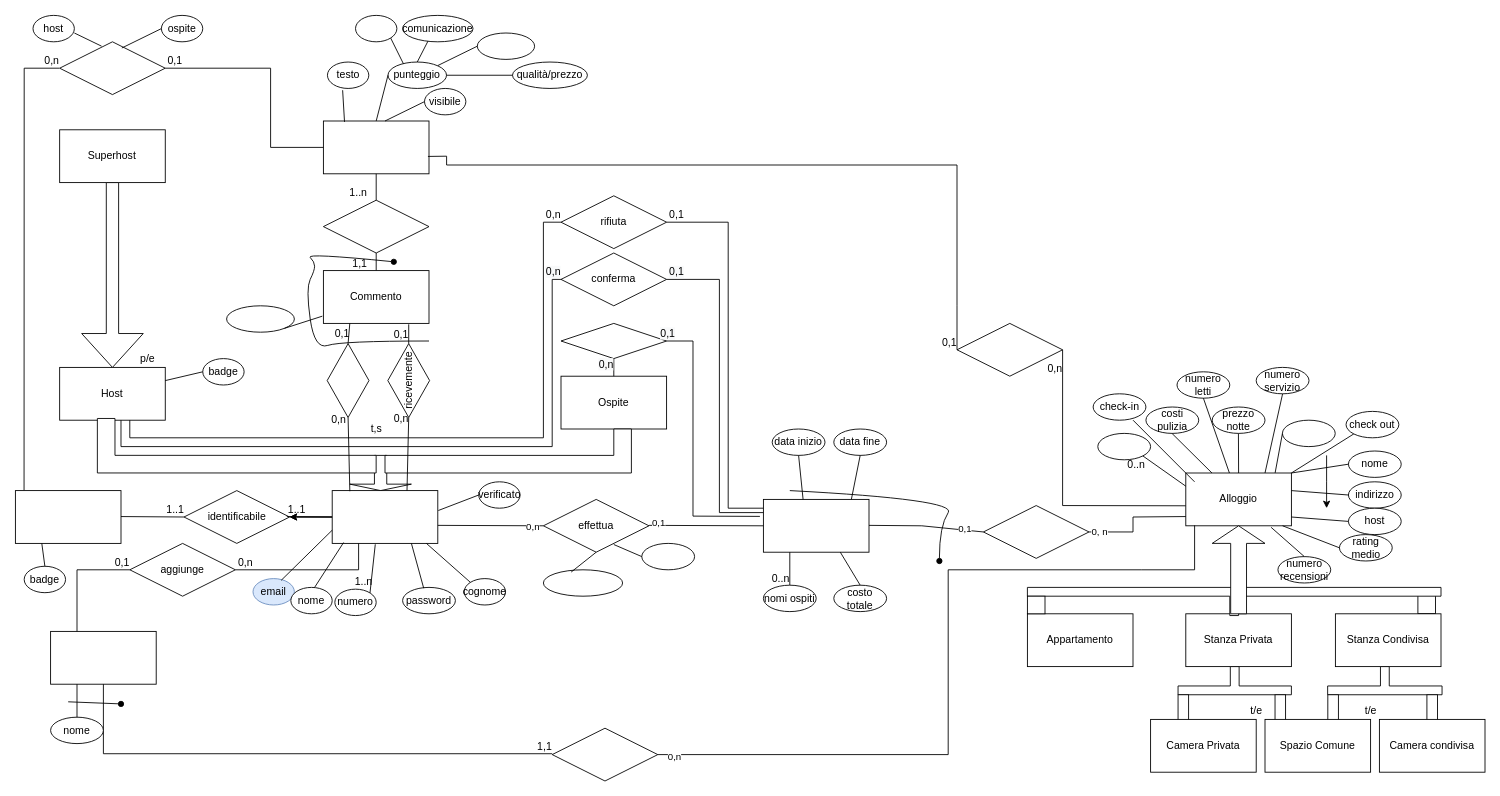
Image size: 1500x796. Some labels were removed from this diagram. Each missing label, with the box of its shape:
cancella: (560, 323, 667, 359)
comprende: (323, 199, 429, 253)
data commento: (226, 305, 294, 332)
descrizione: (1282, 419, 1335, 447)
foto: (1097, 433, 1151, 460)
mandante: (326, 343, 369, 417)
metodo pagamento: (543, 569, 623, 596)
pagamento: (641, 543, 695, 570)
posizione: (476, 32, 535, 59)
Preferiti: (50, 631, 156, 684)
Prenotazione: (763, 499, 869, 552)
Profilo: (15, 490, 121, 543)
pulzia: (355, 15, 397, 42)
Recensione: (323, 120, 429, 174)
riceve: (956, 323, 1063, 376)
riserva: (983, 505, 1089, 558)
selezionato: (551, 727, 658, 781)
t/s: (1211, 525, 1265, 614)
Utente: (331, 490, 438, 543)
valuta: (59, 41, 165, 95)
